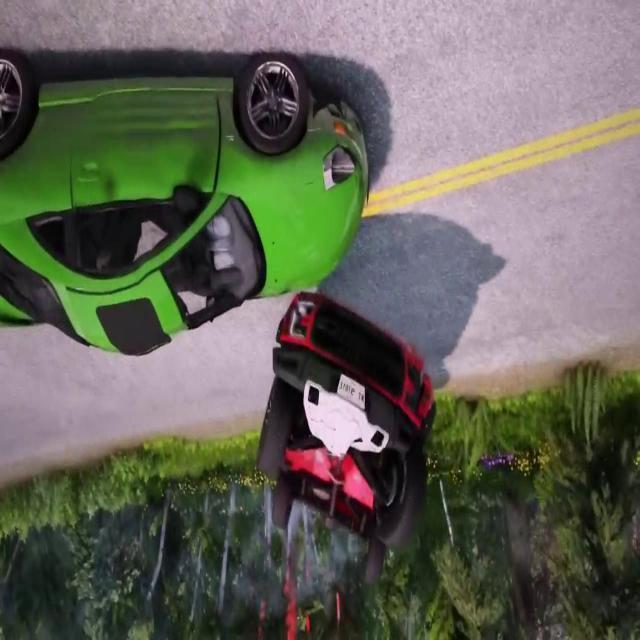person: (250, 252, 460, 626)
